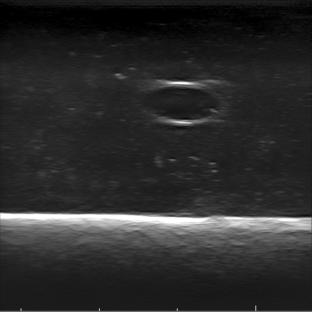vessel: (139, 80, 222, 125)
